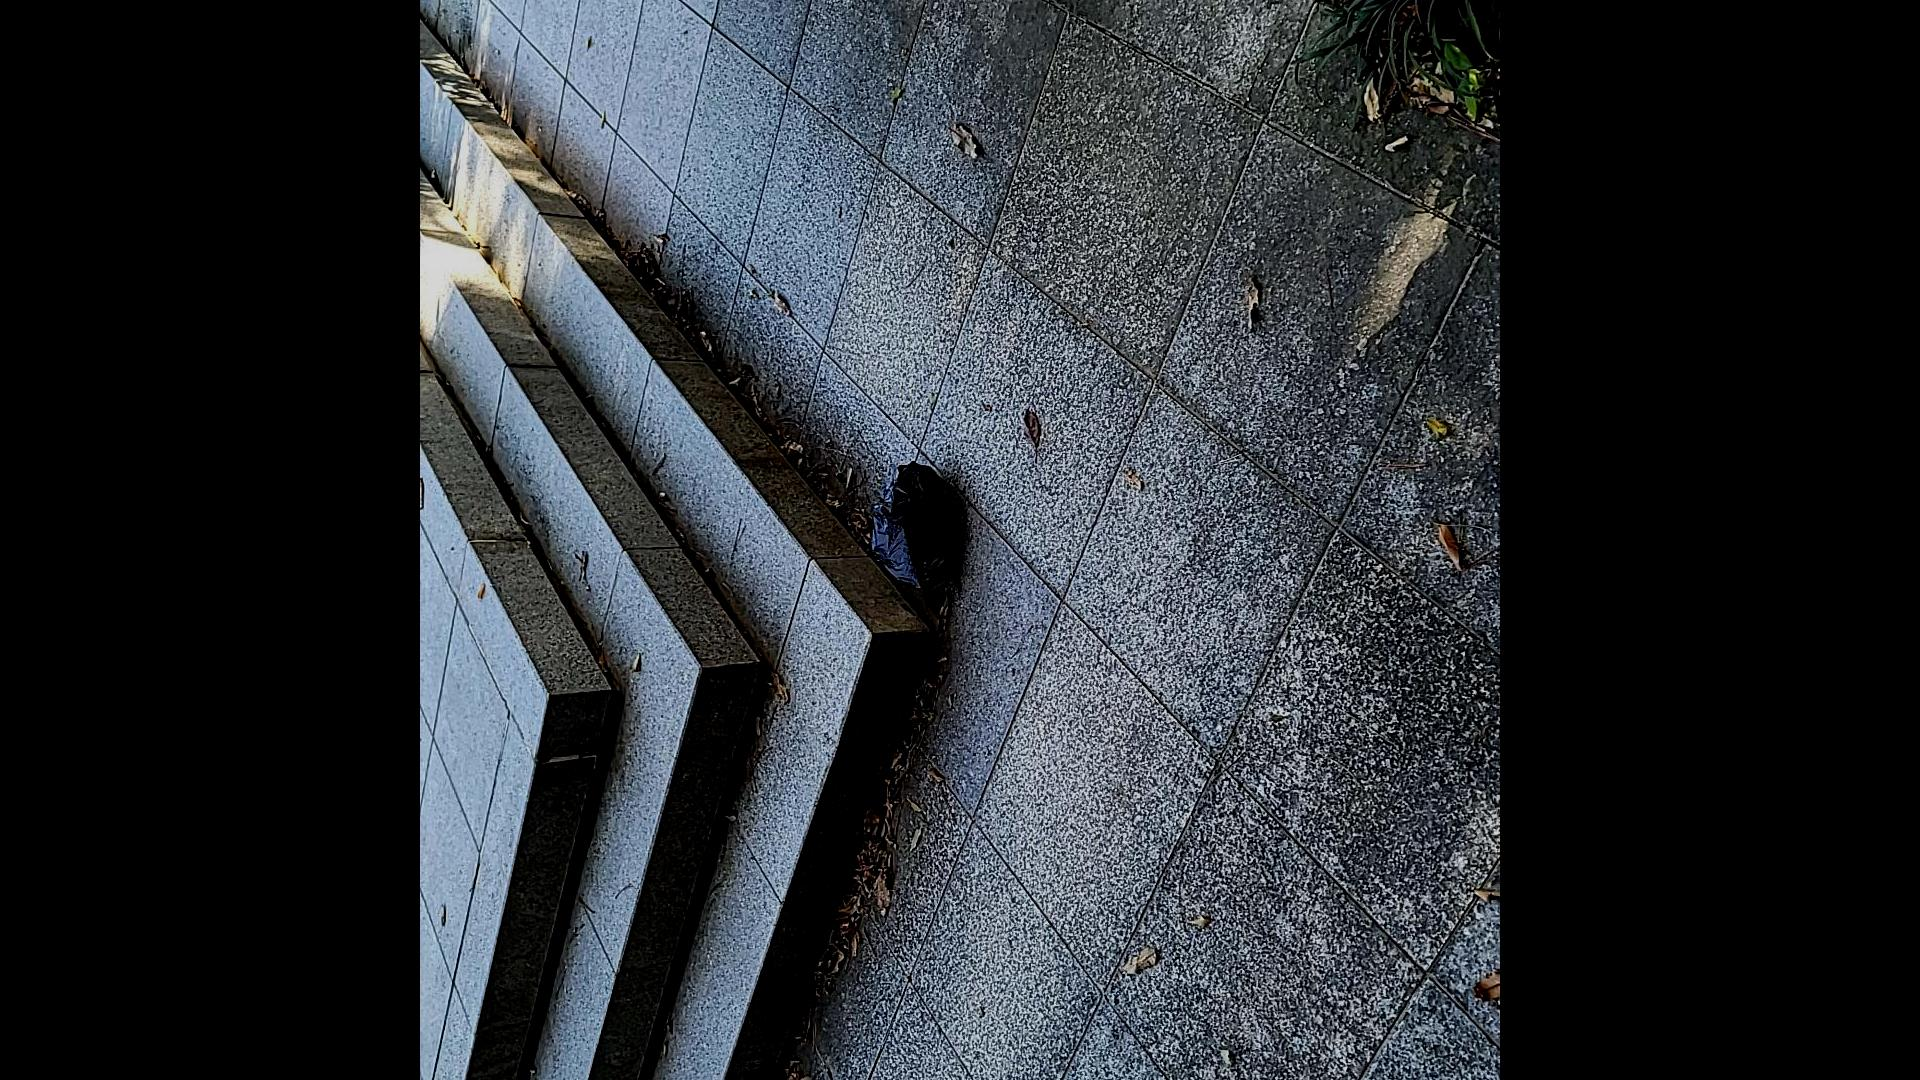black_bag: (862, 456, 972, 599)
